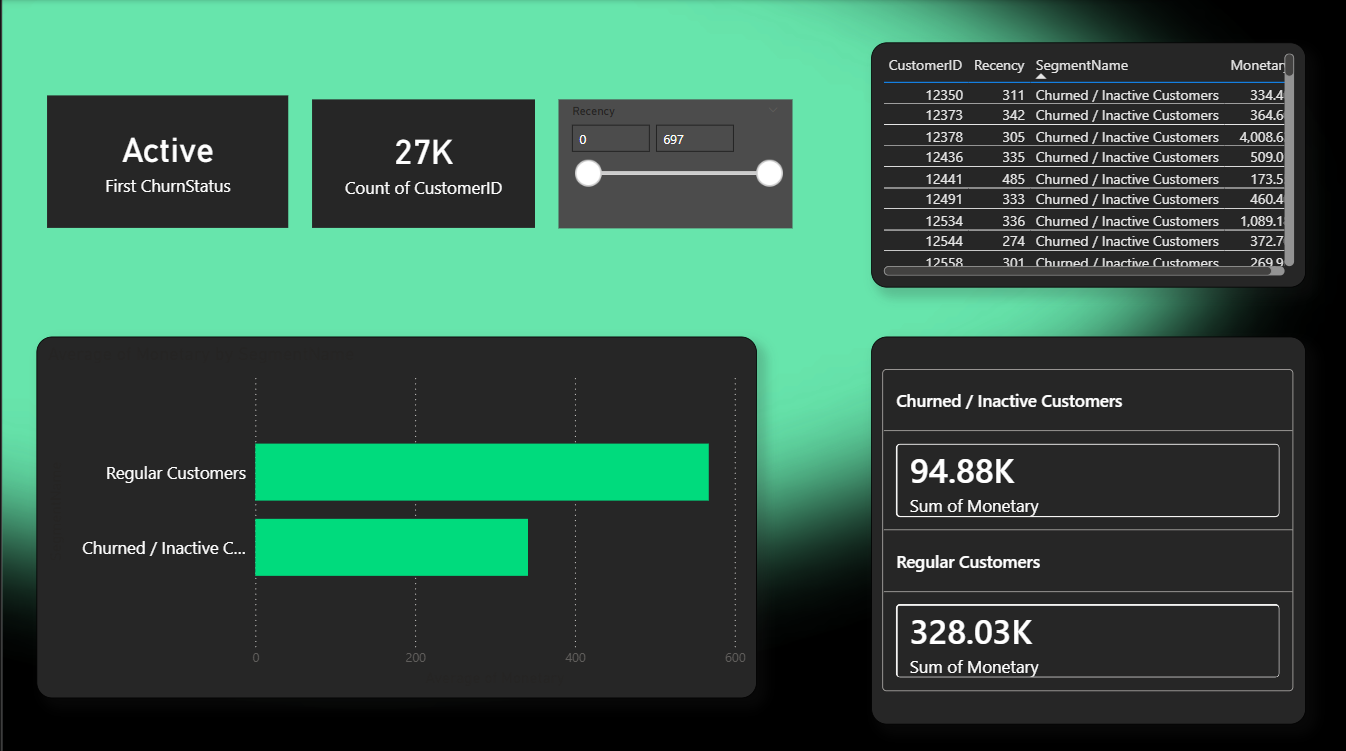

What the dashboard file says about the page in this screenshot:
{"tool":"powerbi","page":{"name":"Retention and churn","canvas":[1280,720],"ordinal":2},"visuals":[{"type":"slicer","fields":{"Values":["clustered_customer_data.Recency"]},"box":[529.4,94.5,221.8,122.3],"z":0},{"type":"tableEx","fields":{"Values":["Clean_Transactions3.CustomerID","clustered_customer_data.Recency","clustered_customer_data.SegmentName","clustered_customer_data.Monetary"]},"box":[826.8,40.3,413.4,233.2],"z":1000},{"type":"clusteredBarChart","fields":{"Y":["Avg(clustered_customer_data.Monetary)"],"Category":["clustered_customer_data.SegmentName"]},"box":[32.8,320.1,685.6,344.1],"z":2000},{"type":"cardVisual","fields":{"Rows":["clustered_customer_data.SegmentName"],"Data":["Sum(clustered_customer_data.Monetary)"]},"box":[826.8,320.1,413.4,369.3],"z":3000},{"type":"advanceCardE03760C5AB684758B56AA29F9E6C257B","fields":{"mainMeasure":["Min(clustered_customer_data.ChurnStatus)"]},"box":[42.9,90.7,229.4,126],"z":4000},{"type":"advanceCardE03760C5AB684758B56AA29F9E6C257B","fields":{"mainMeasure":["CountNonNull(Clean_Transactions3.CustomerID)"]},"box":[294.9,94.5,211.7,122.3],"z":5000}]}

Visuals, with their boxes in screenshot pixels (x1, y1, x2, y2), scaled from the page's 1280x720 canvas onto the 1346x751 screenshot:
slicer - clustered_customer_data.Recency: {"x1": 557, "y1": 99, "x2": 790, "y2": 226}
tableEx - Clean_Transactions3.CustomerID x clustered_customer_data.Recency: {"x1": 869, "y1": 42, "x2": 1304, "y2": 285}
clusteredBarChart - Avg(clustered_customer_data.Monetary) x clustered_customer_data.SegmentName: {"x1": 34, "y1": 334, "x2": 755, "y2": 693}
cardVisual - clustered_customer_data.SegmentName x Sum(clustered_customer_data.Monetary): {"x1": 869, "y1": 334, "x2": 1304, "y2": 719}
advanceCardE03760C5AB684758B56AA29F9E6C257B - Min(clustered_customer_data.ChurnStatus): {"x1": 45, "y1": 95, "x2": 286, "y2": 226}
advanceCardE03760C5AB684758B56AA29F9E6C257B - CountNonNull(Clean_Transactions3.CustomerID): {"x1": 310, "y1": 99, "x2": 533, "y2": 226}
